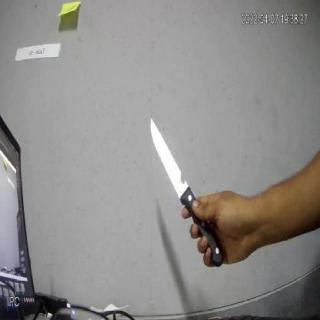knife: (146, 117, 228, 275)
